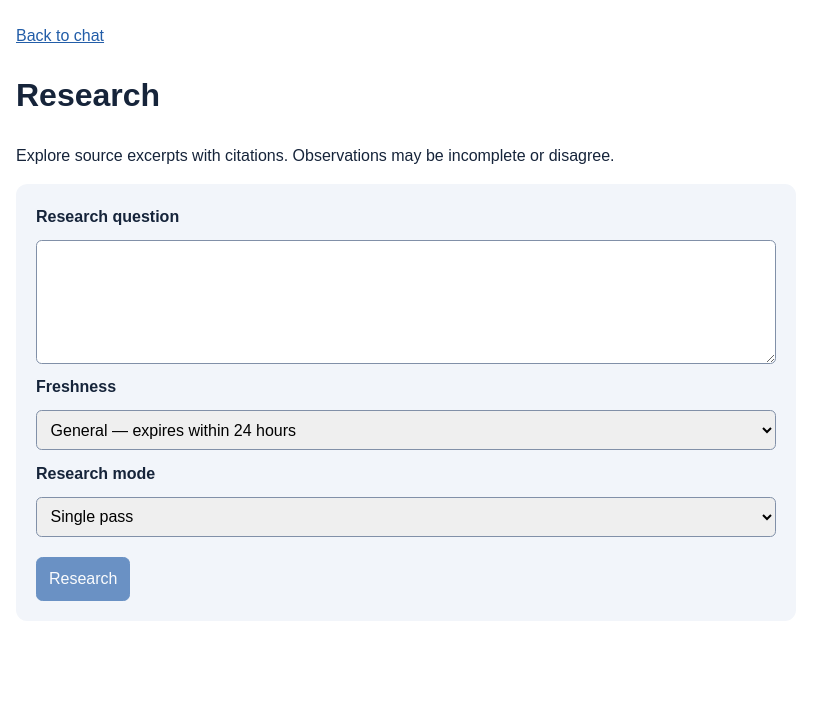
Test: research page › exposes explicit cancel as soon as the active run ID arrives on SSE
The width and height of the screenshot is (813, 711).
Type "Synthetic star color?" into the text box labelled "Research question" at (406, 302), box [36,240,776,364]
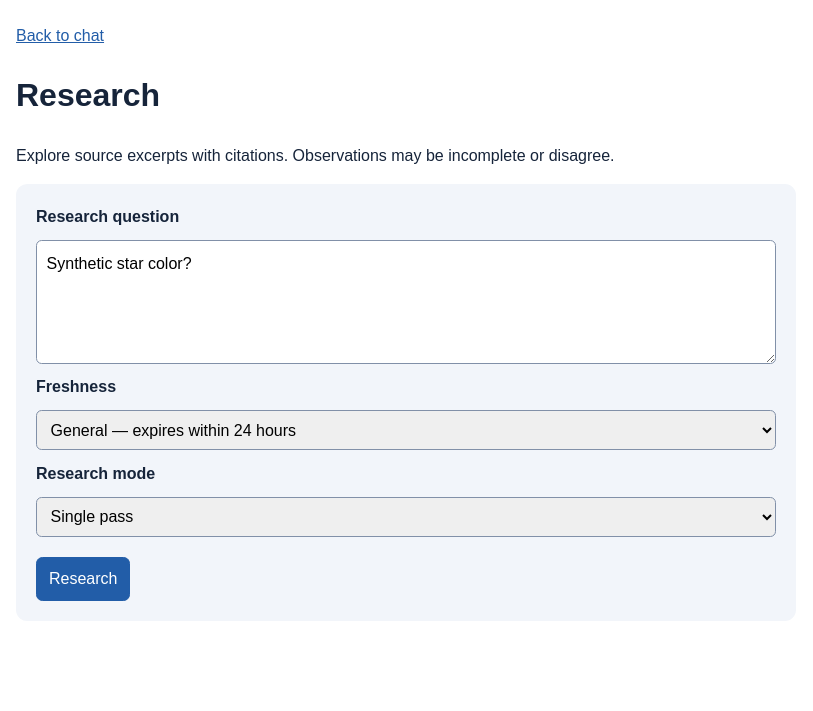
Select "Bounded follow-up research" in the dropdown labelled "Research mode" at (406, 517), box [36,497,776,537]
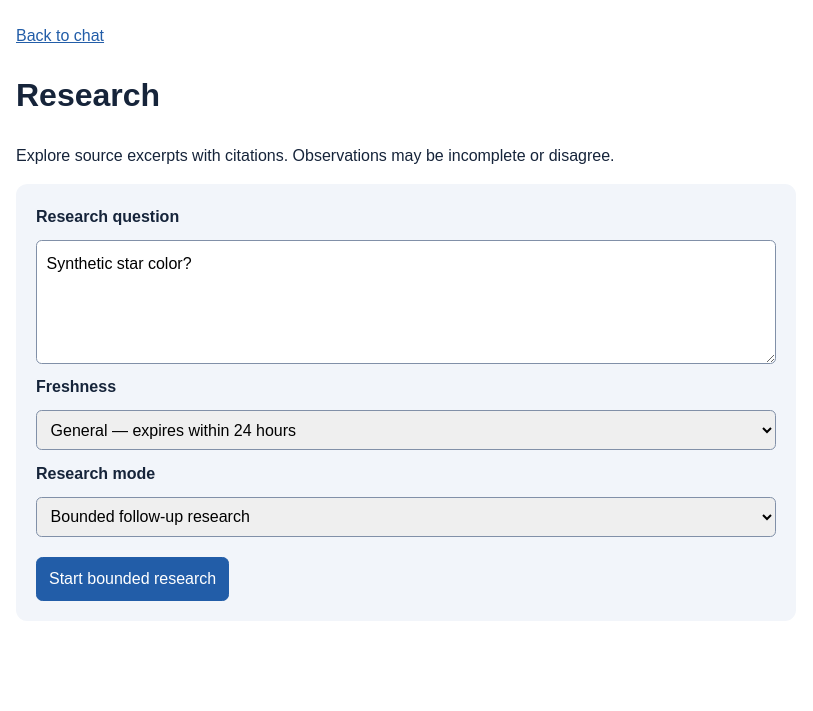
Click the button "Start bounded research" at (133, 579), box [36,557,229,600]
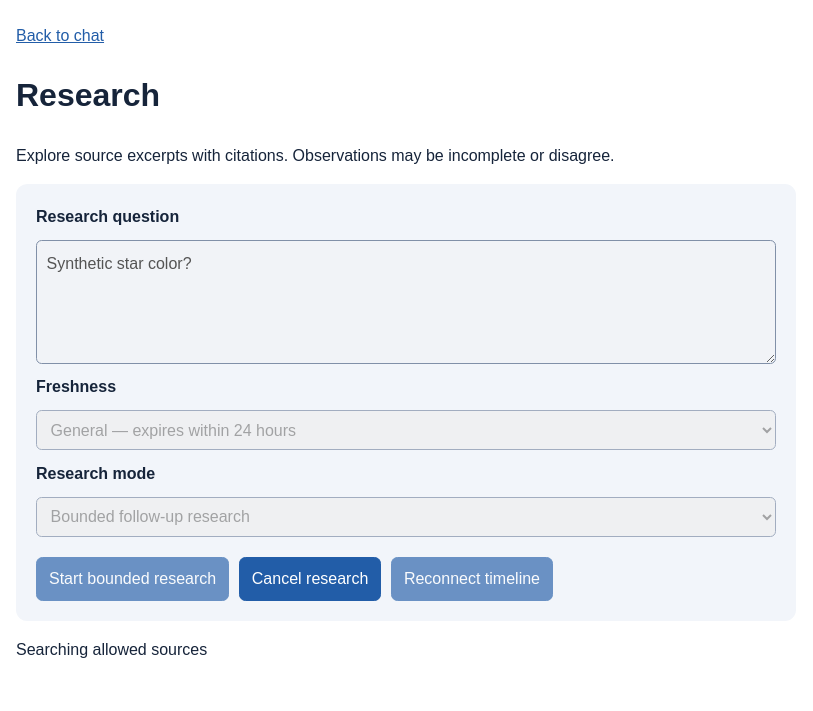
Click the button "Cancel research" at (310, 579), box [239,557,381,600]
(page scrolled)
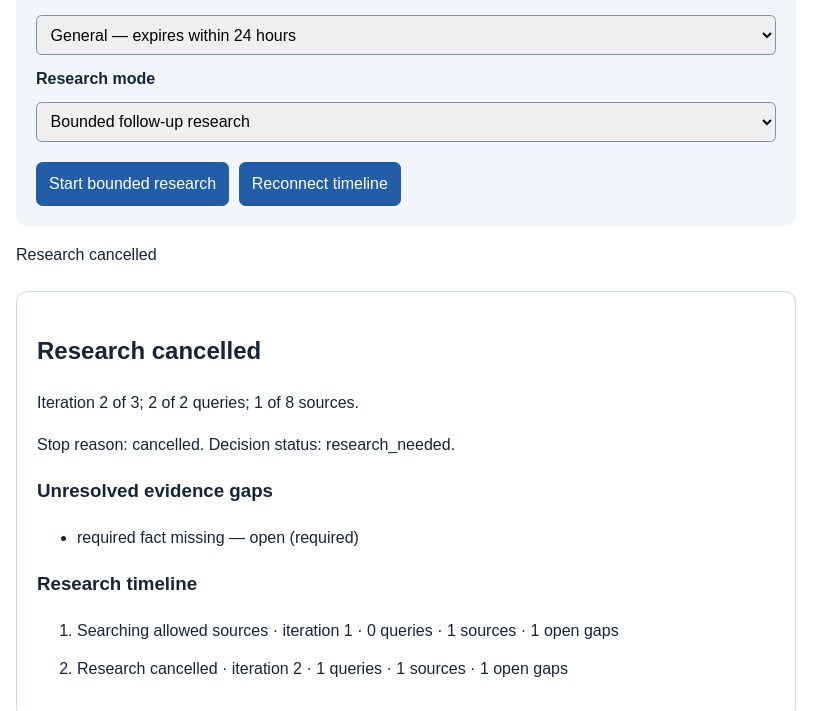
Result: the heading "Research cancelled" is shown at [37,337,261,364]
